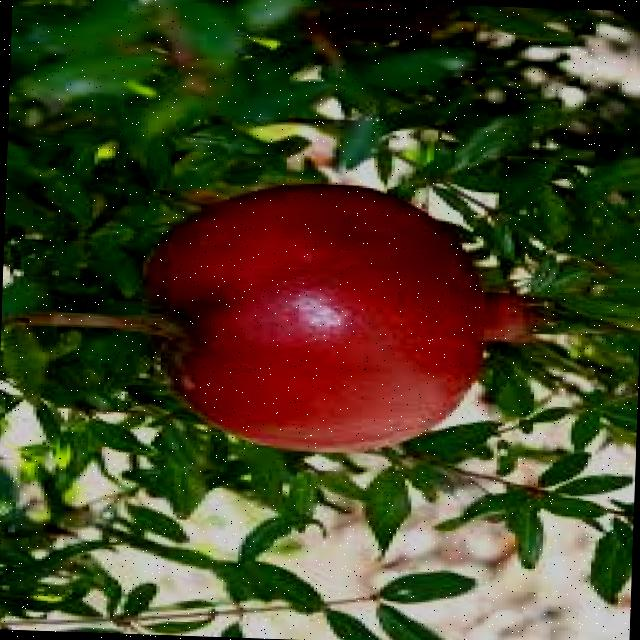Pomegranate: (141, 178, 542, 462)
